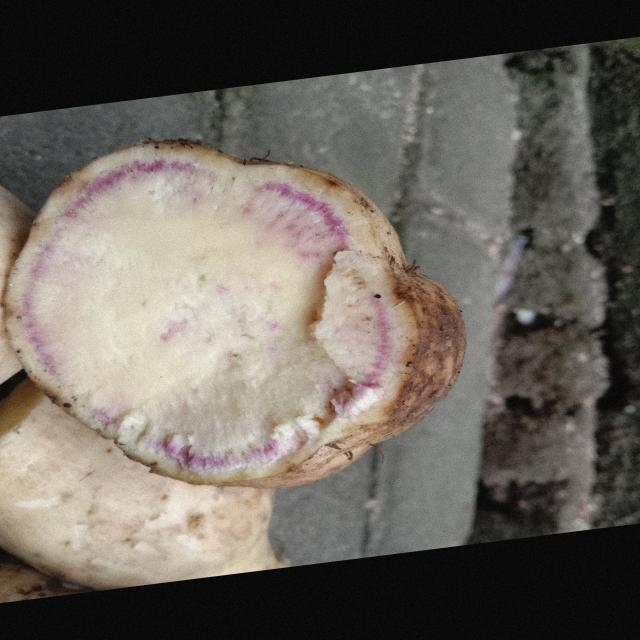Healthy Sweet Potato: (5, 141, 423, 488)
